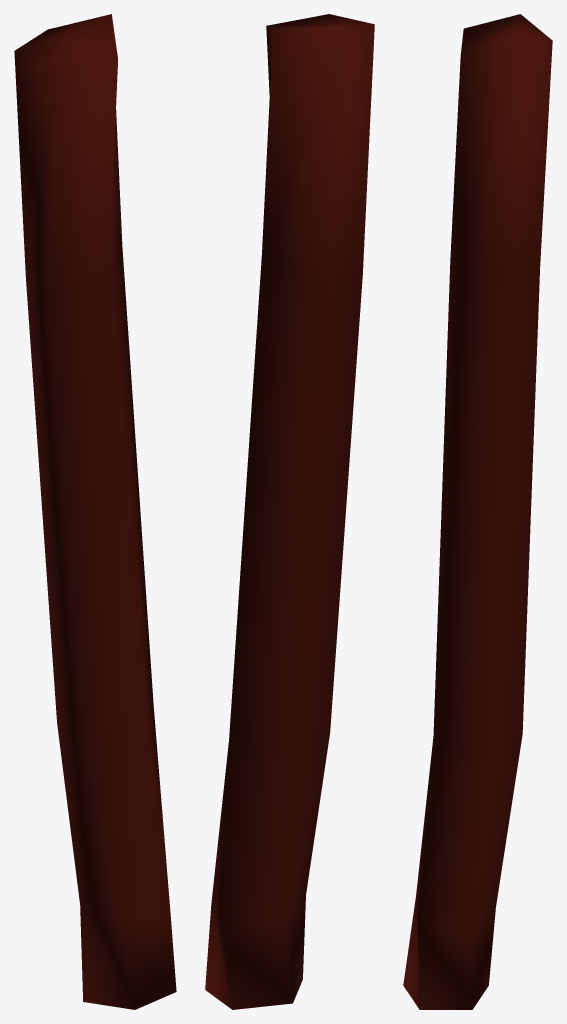
The model's file is HWN20_FenceStick_02.glb.
3 renders of one model, left to right at view 1: azimuth 30°, elevation 25°; view 2: azimuth 210°, elevation 25°; view 3: azimuth 270°, elevation 25°, orthographic. The views are drawn at different scales.
Visible parts, largest first — view 1: HWN20_FenceStick_02; view 2: HWN20_FenceStick_02; view 3: HWN20_FenceStick_02.
Boxes of the visible parts, x1,y1,x2,y2 form: HWN20_FenceStick_02: [14, 14, 176, 1009]; HWN20_FenceStick_02: [205, 14, 374, 1009]; HWN20_FenceStick_02: [403, 14, 552, 1009].
Size of what is drawn, in the model's own units: 0.1978 by 1.5 by 0.2124.
Materials: 1 (1 with a texture image).
